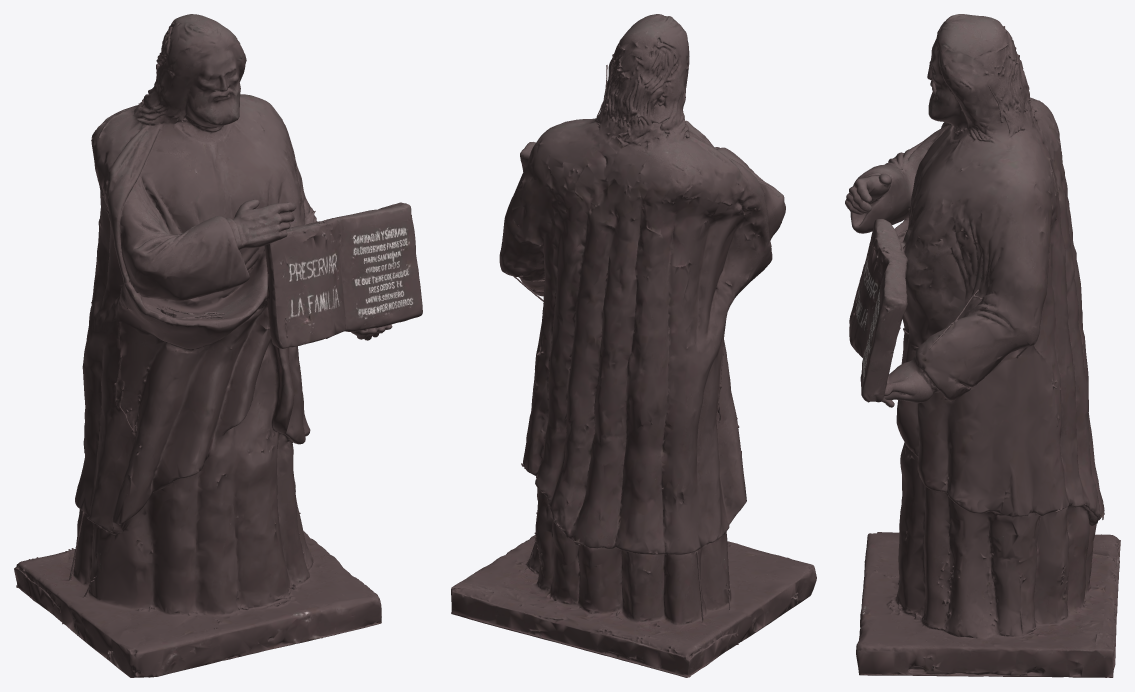
The model's file is obra-05-san-joaquin.glb.
3 renders of one model, left to right at view 1: azimuth 30°, elevation 25°; view 2: azimuth 150°, elevation 25°; view 3: azimuth 270°, elevation 25°, orthographic. The views are drawn at different scales.
Size of the model in its own units: 0.9677 by 1.9 by 0.7957.
Materials: 1 (1 with a texture image).
